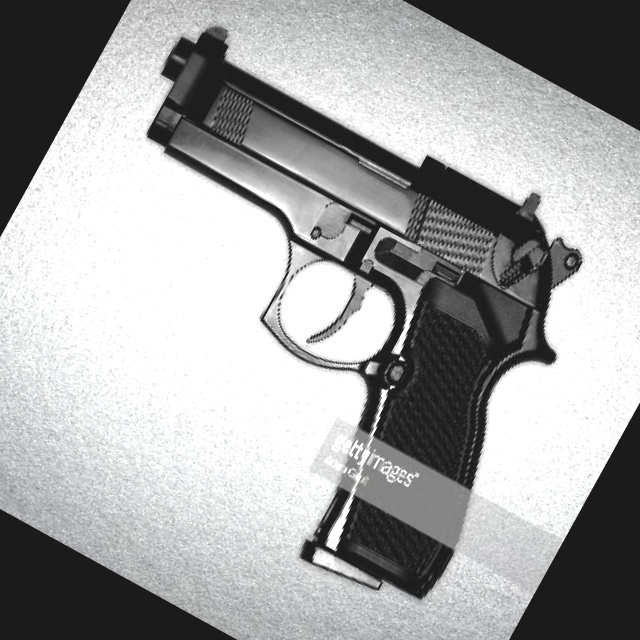gun: (0, 0, 631, 614)
